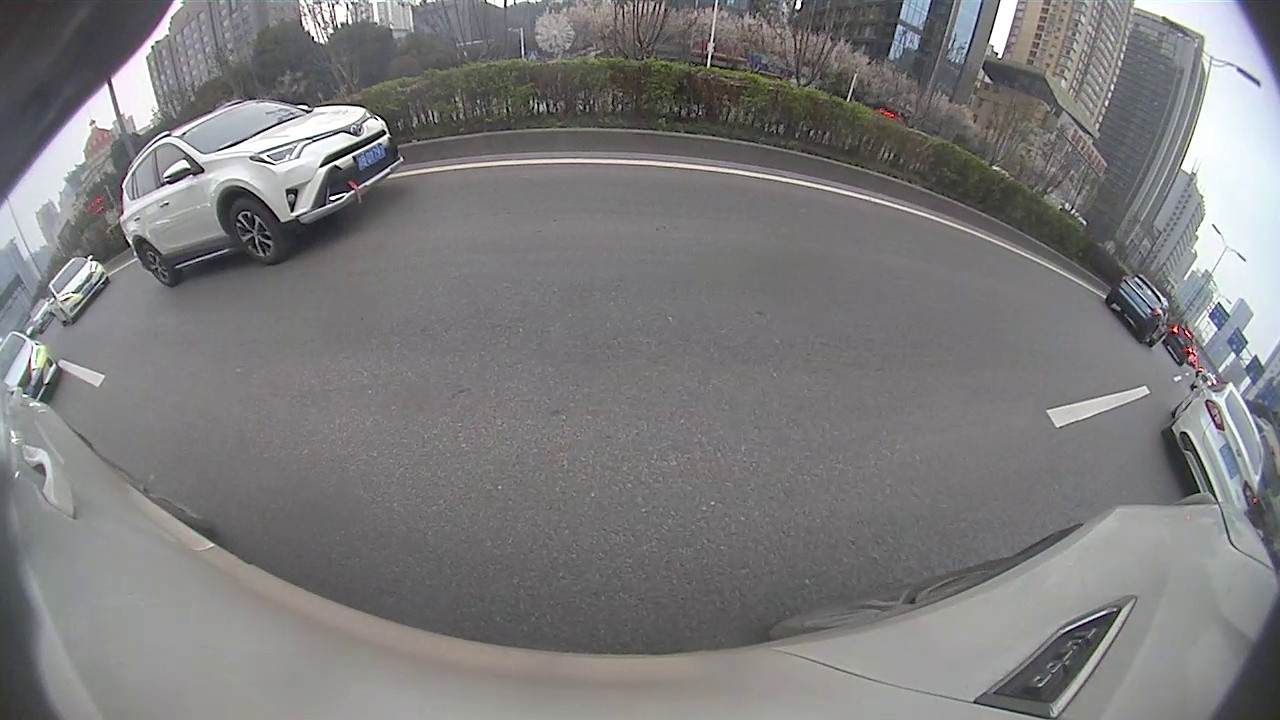car: (986, 185, 1279, 447), (450, 162, 535, 212), (572, 154, 627, 194), (660, 164, 677, 179)
front: (995, 253, 1065, 328)
person: (862, 170, 871, 200), (849, 173, 858, 200)
rear: (498, 185, 512, 206)
